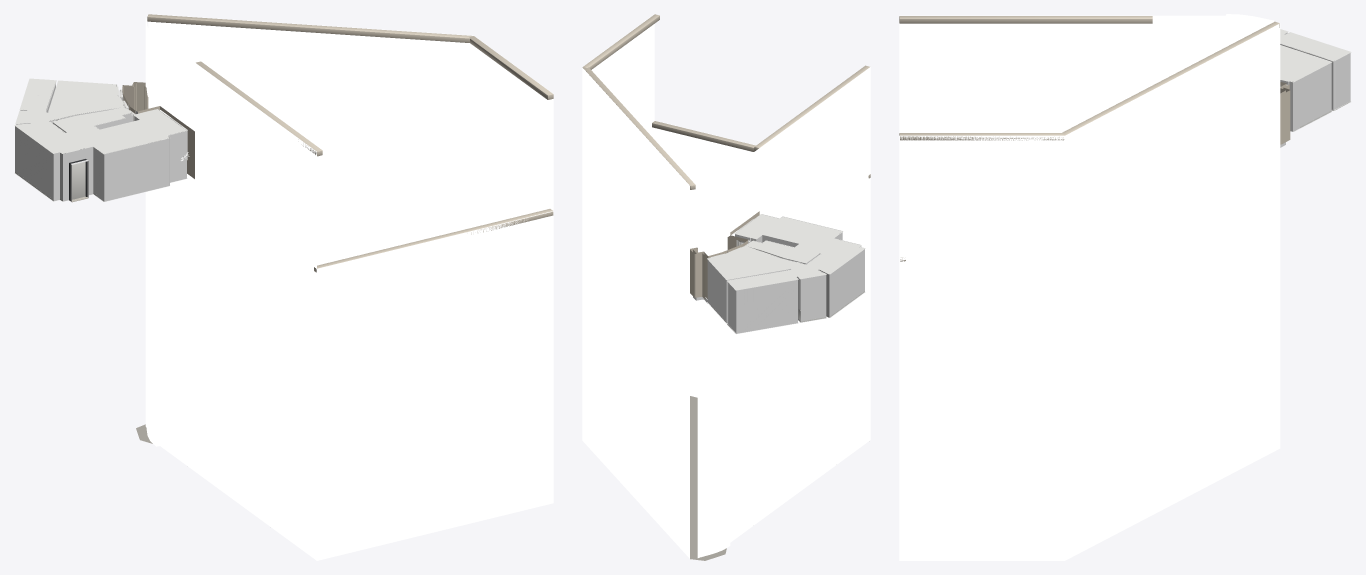
The model's file is appartement.glb.
3 renders of one model, left to right at view 1: azimuth 30°, elevation 25°; view 2: azimuth 150°, elevation 25°; view 3: azimuth 270°, elevation 25°, orthographic. The views are drawn at different scales.
Visible parts, largest first — view 1: immeuble_bas, notre_immeuble, voisin_nord_est, facade_inferieure, immeuble_en_face, murs, plafond_sejour_0, facade_superieure, voisin_nord_est_corniche, plafond_chambre_0, murs_facade, immeuble_bas_corniche (+4 smaller); view 2: voisin_nord_est, notre_immeuble, facade_inferieure, murs, immeuble_bas, plafond_sejour_0, facade_superieure, immeuble_en_face, plafond_chambre_0, sol_cour, murs_facade, voisin_nord_est_corniche (+5 smaller); view 3: voisin_nord_est, immeuble_en_face, notre_immeuble, facade_superieure, murs, notre_immeuble_corniche, plafond_chambre_0, voisin_nord_est_corniche, immeuble_en_face_corniche, plafond_sdb_0, murs_facade.
Part boxes in pixels (x1,y1,x2,y2): immeuble_bas: [317, 211, 553, 560]; notre_immeuble: [195, 62, 316, 560]; voisin_nord_est: [148, 14, 474, 265]; facade_inferieure: [145, 178, 194, 471]; immeuble_en_face: [474, 36, 553, 226]; murs: [15, 83, 187, 201]; plafond_sejour_0: [14, 107, 187, 154]; facade_superieure: [145, 18, 194, 131]; voisin_nord_est_corniche: [147, 14, 473, 42]; plafond_chambre_0: [48, 80, 124, 118]; murs_facade: [122, 82, 194, 178]; immeuble_bas_corniche: [314, 209, 553, 272]; voisin_nord_est: [582, 67, 689, 558]; notre_immeuble: [759, 67, 870, 520]; facade_inferieure: [697, 299, 759, 557]; murs: [707, 216, 864, 333]; immeuble_bas: [654, 120, 755, 397]; plafond_sejour_0: [734, 214, 865, 274]; facade_superieure: [697, 148, 759, 247]; immeuble_en_face: [583, 14, 654, 139]; plafond_chambre_0: [707, 246, 797, 279]; sol_cour: [690, 396, 726, 560]; murs_facade: [690, 211, 759, 299]; voisin_nord_est_corniche: [582, 67, 695, 189]; voisin_nord_est: [1065, 23, 1280, 560]; immeuble_en_face: [899, 135, 1064, 560]; notre_immeuble: [899, 15, 1152, 132]; facade_superieure: [1152, 14, 1274, 84]; murs: [1280, 32, 1350, 131]; notre_immeuble_corniche: [899, 16, 1152, 23]; plafond_chambre_0: [1280, 45, 1331, 82]; voisin_nord_est_corniche: [1062, 21, 1279, 135]; immeuble_en_face_corniche: [899, 133, 1064, 140]; plafond_sdb_0: [1280, 32, 1351, 61]; murs_facade: [1280, 82, 1290, 144].
Bounding box in the file's own units: 21.62 × 23.1 × 22.26.
